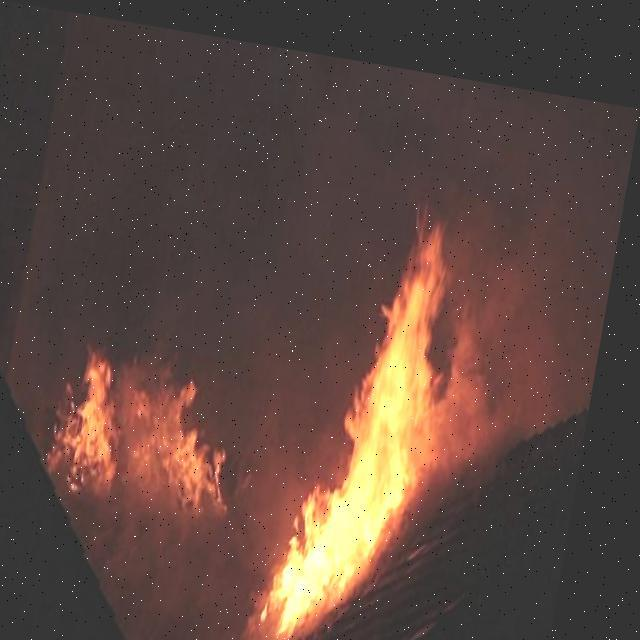Fire: (15, 109, 539, 639)
